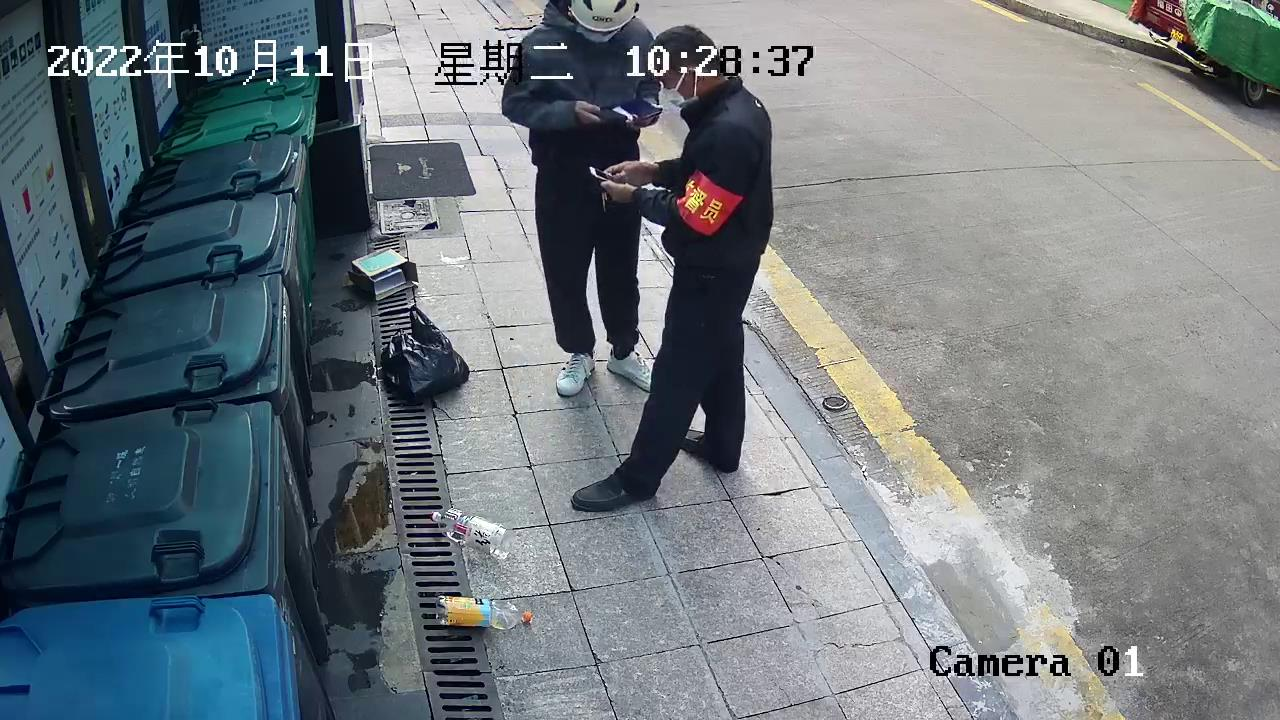garbage-bag: (374, 302, 474, 409)
suliaozhipin: (428, 589, 540, 635), (425, 506, 514, 561)
worker: (497, 1, 781, 518)
zhizhipin: (344, 243, 426, 306)
